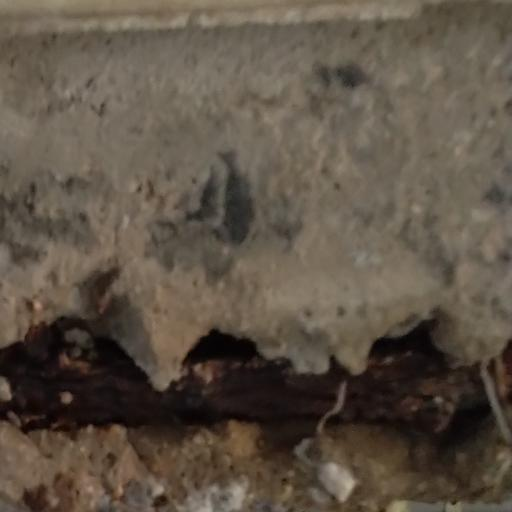spalling: (0, 233, 512, 512)
